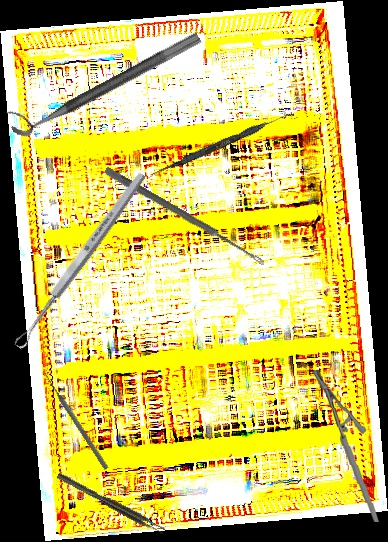Fixation Ring: (3, 15, 203, 142)
Needle Holder: (311, 367, 380, 525)
Pusher: (41, 370, 110, 471)
Spatula Surgical: (151, 106, 295, 181)
Surgical Spoon: (11, 170, 149, 351), (103, 166, 267, 267)
Tissue Forceps: (56, 469, 167, 537)
